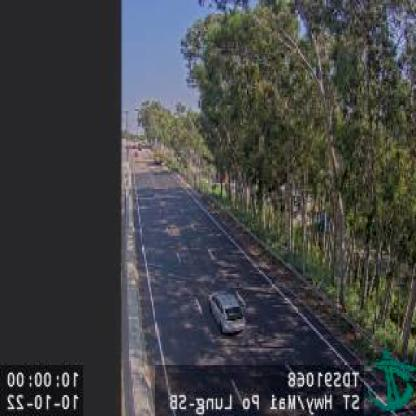Car: (210, 291, 244, 332)
